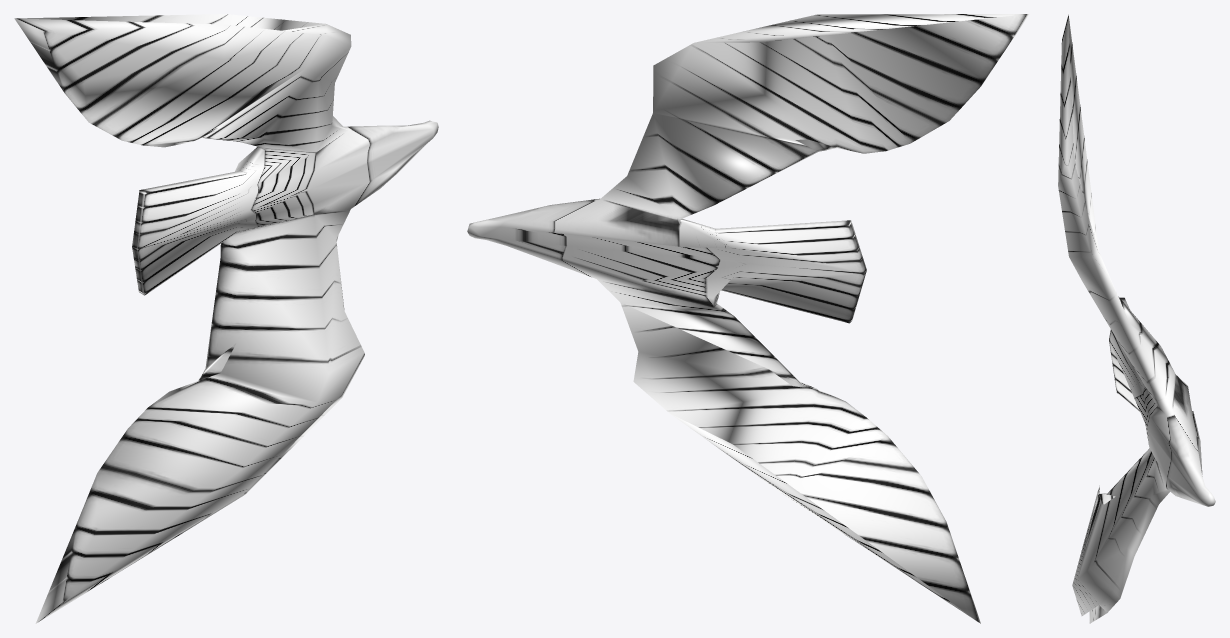
Rendered from seagull_000009.obj.
3 views of the same model, side by side, from view 1: azimuth 30°, elevation 25°; view 2: azimuth 150°, elevation 25°; view 3: azimuth 270°, elevation 25° (orthographic). The views are drawn at different scales.
Parts seen in each view (by area): view 1: Seagull; view 2: Seagull; view 3: Seagull.
Part boxes in pixels (x1,y1,x2,y2): Seagull: (14, 14, 438, 623); Seagull: (467, 14, 1029, 623); Seagull: (1058, 14, 1215, 623).
Size of the model in its own units: 0.7849 by 0.9361 by 0.2326.
